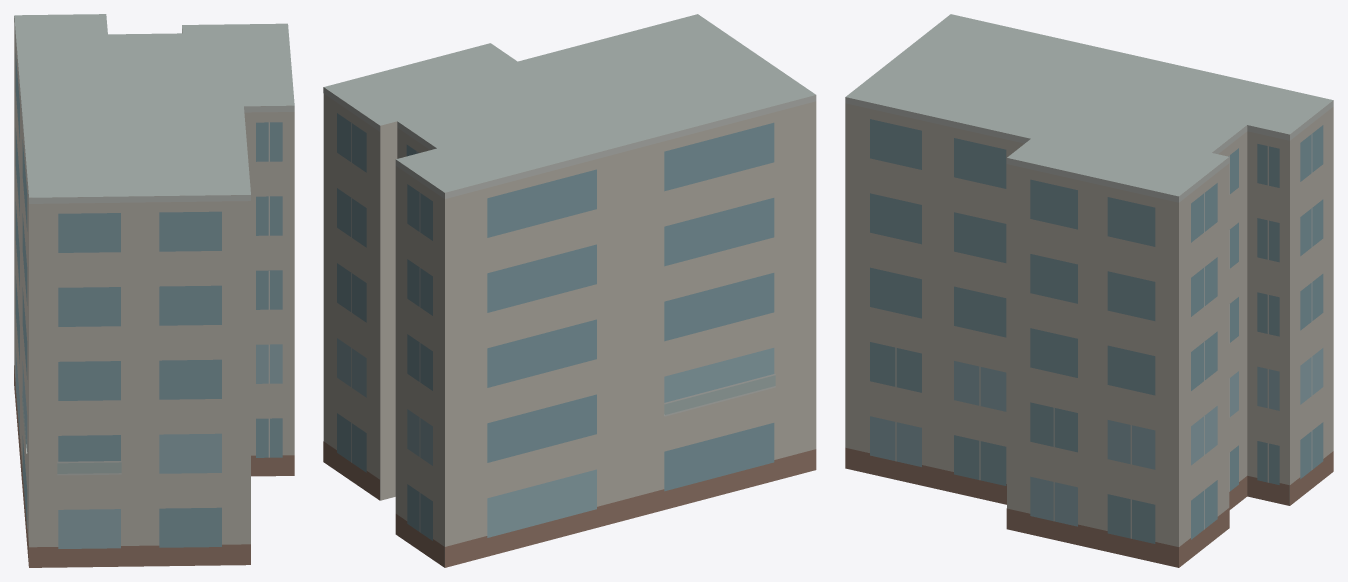
The model's file is survey-upis-32996314.glb.
The picture shows the model from 3 angles, left to right: view 1: azimuth 30°, elevation 25°; view 2: azimuth 150°, elevation 25°; view 3: azimuth 270°, elevation 25°; orthographic projection.
Visible parts, largest first — view 1: survey-upis-32996314.tmp; view 2: survey-upis-32996314.tmp; view 3: survey-upis-32996314.tmp.
Boxes of the visible parts, x1,y1,x2,y2 form: survey-upis-32996314.tmp: (14,14,294,567); survey-upis-32996314.tmp: (323,14,816,567); survey-upis-32996314.tmp: (845,14,1333,567).
Size of the model in its own units: 15.23 by 14.45 by 17.22.
